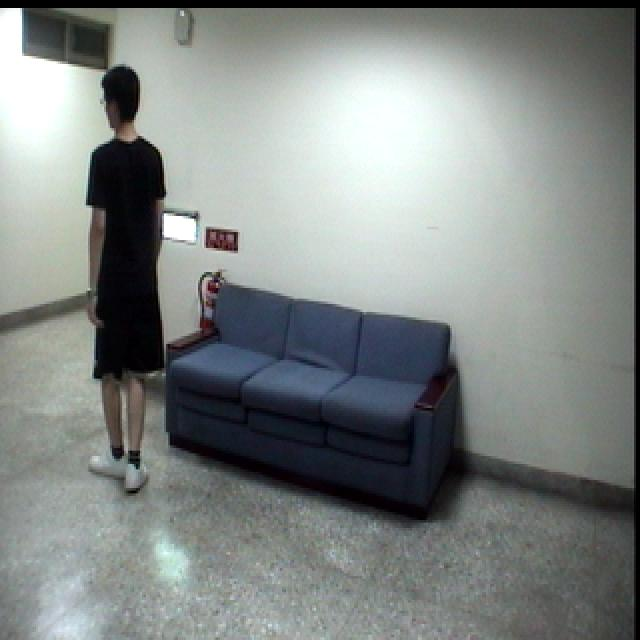stand: (86, 56, 174, 505)
